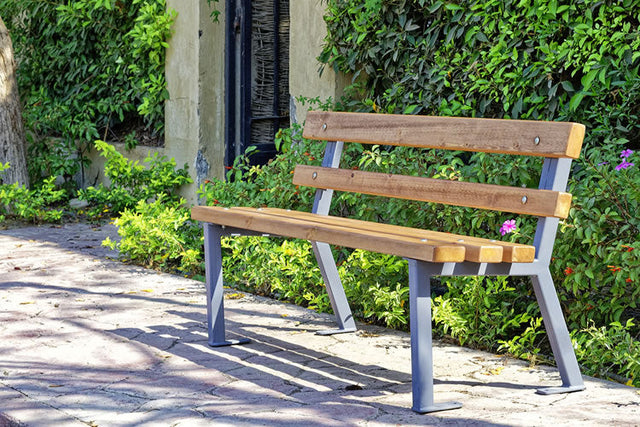Chair: (184, 107, 597, 412)
